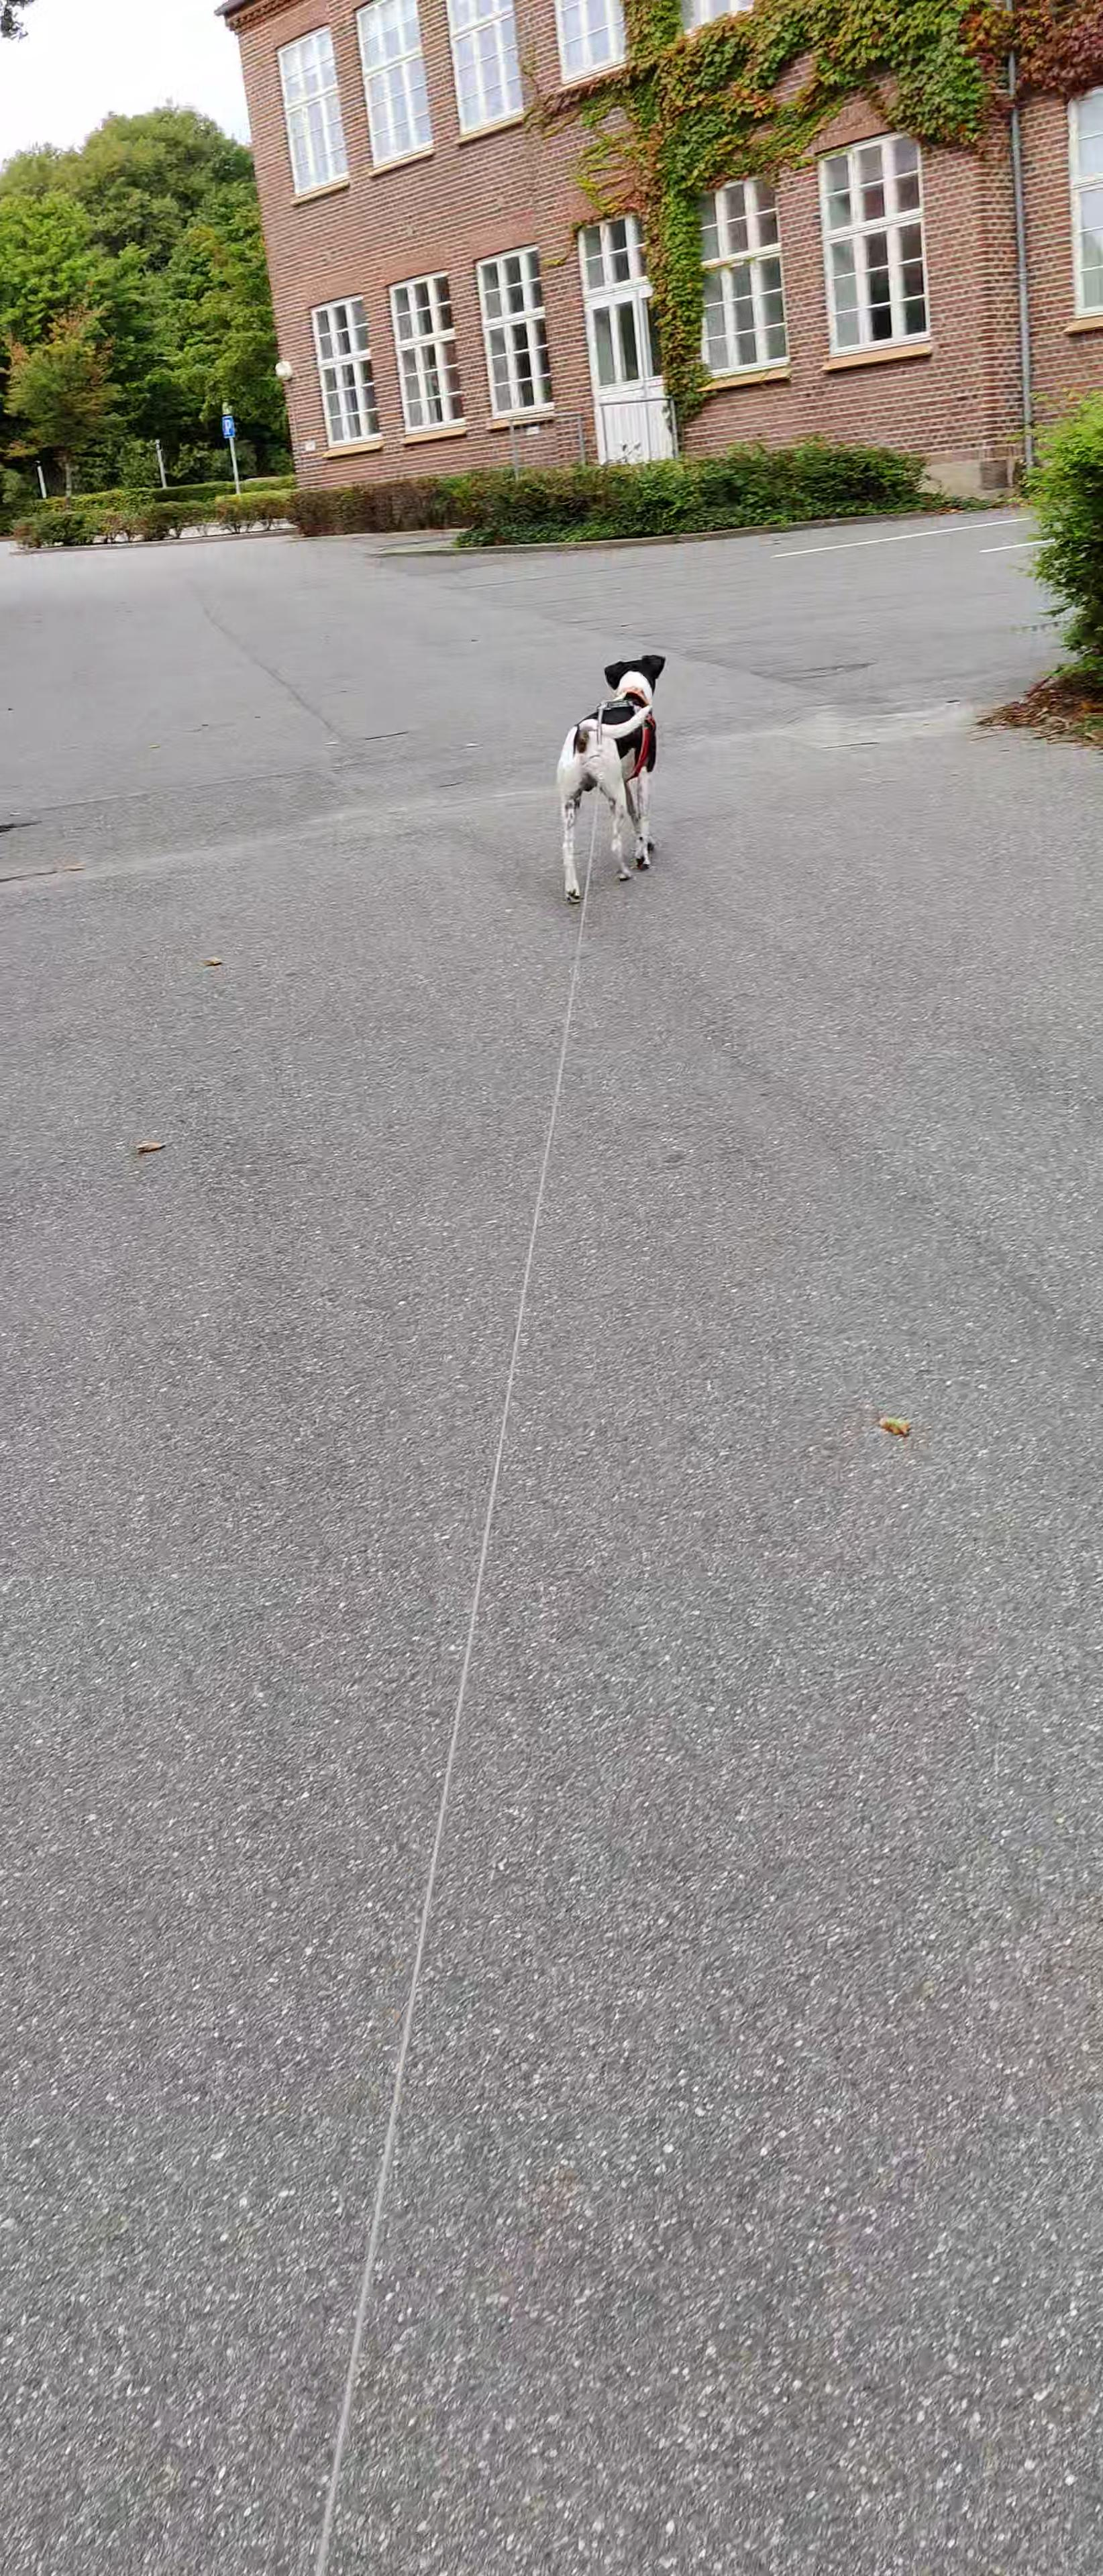Dog: (551, 651, 669, 905)
